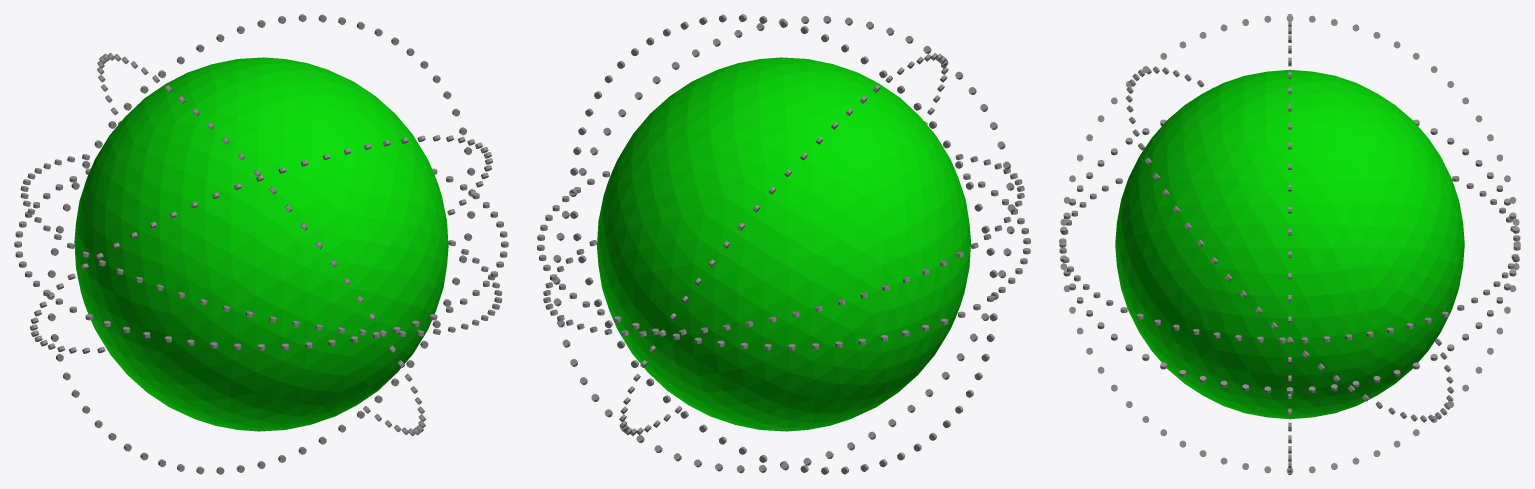
The model's file is echo_orb_final_fixed.glb.
The picture shows the model from 3 angles, left to right: view 1: azimuth 30°, elevation 25°; view 2: azimuth 150°, elevation 25°; view 3: azimuth 270°, elevation 25°; orthographic projection. The views are drawn at different scales.
Visible parts, largest first — view 1: world; view 2: world; view 3: world.
Part boxes in pixels (box(x1,y1,x2,y2)): world: box(14, 14, 508, 474); world: box(537, 14, 1030, 474); world: box(1059, 14, 1520, 474).
Bounding box in the file's own units: 2.64 × 2.64 × 2.64.
